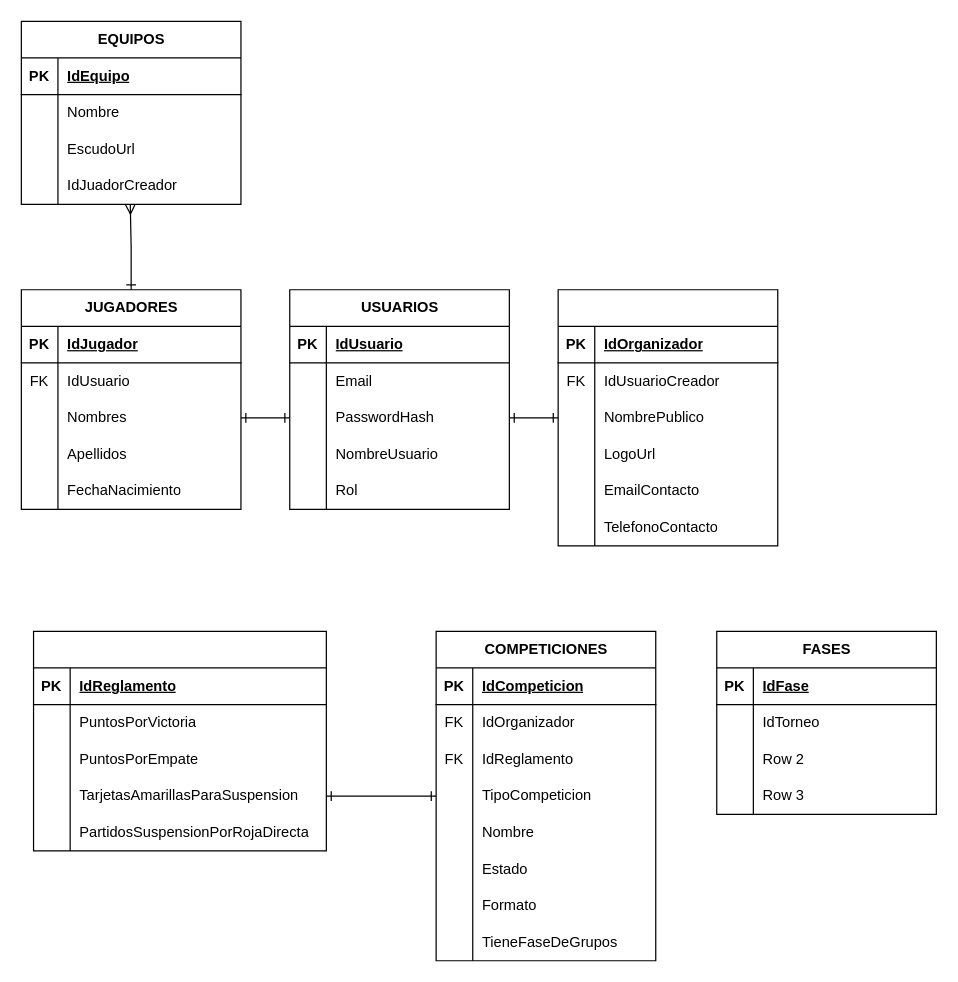
Some shapes in this 958 by 982 pixel diagram are drawn without their labels. Here are the shapes that lost their labels. From the top down, the box of each, then its label:
(557, 289, 778, 546): ORGANIZADORES
(32, 630, 326, 851): REGLAMENTOS
